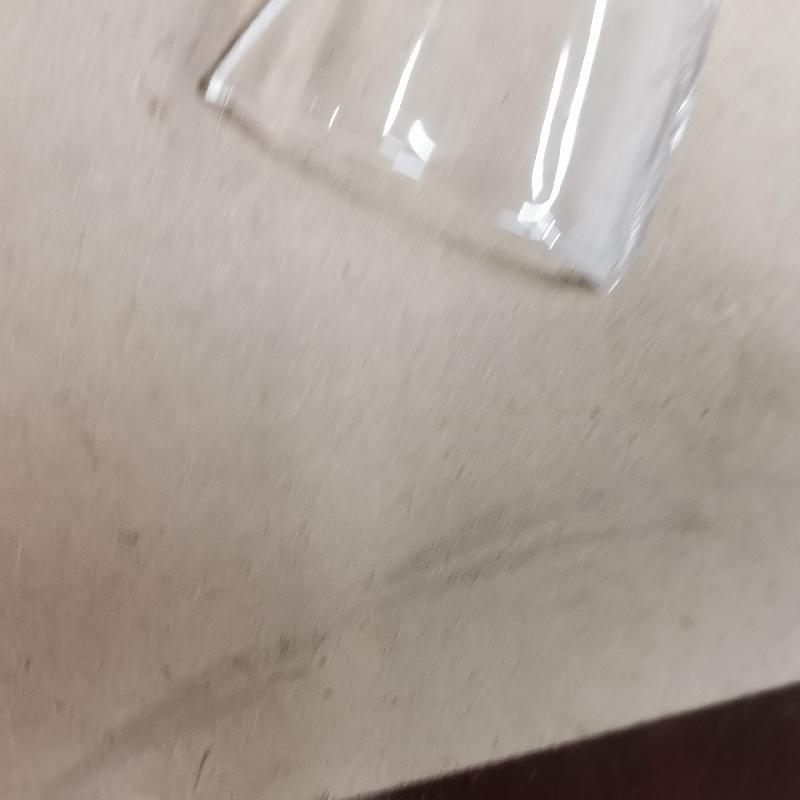glass: (195, 0, 715, 292)
